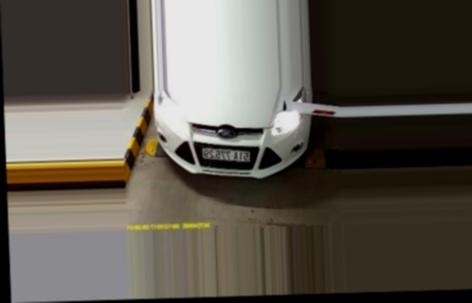License_Plate: (200, 148, 251, 164)
